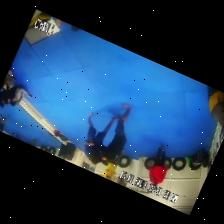person: (99, 104, 132, 161), (85, 112, 117, 163), (150, 145, 168, 188), (4, 86, 31, 105), (105, 155, 121, 178), (1, 68, 15, 88), (0, 88, 6, 107), (0, 117, 7, 131), (57, 19, 63, 26), (0, 117, 2, 123)
